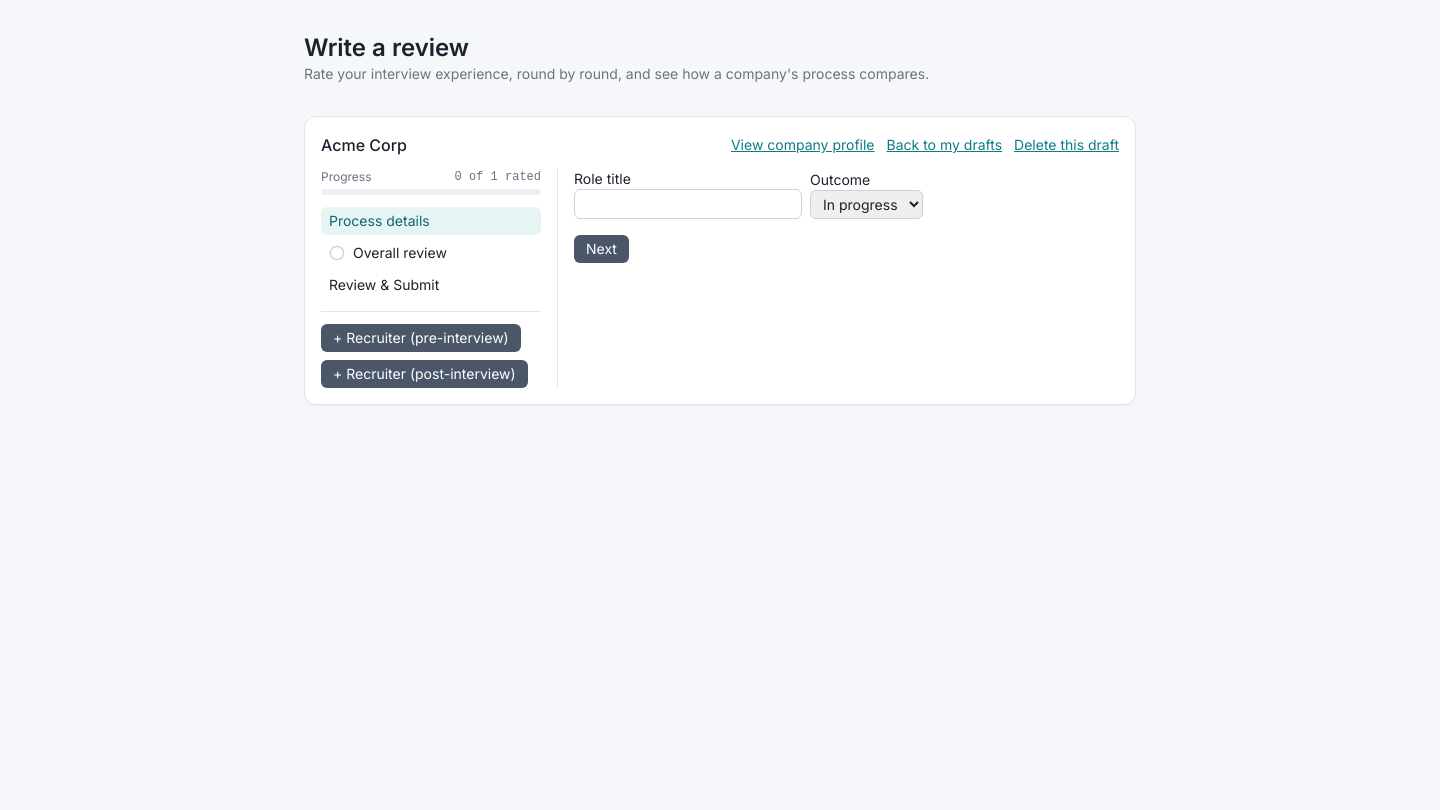
it: Next-button add-round modal (GitHub issues #306, #319) › "Finish draft & go to review" jumps straight to the review screen
Expected: the heading "Acme Corp" is shown, [321,133,407,157]
Type "Backend Engineer" into the field labelled "Role title".
click(688, 204); type("Backend Engineer")  # box [574,189,802,219]
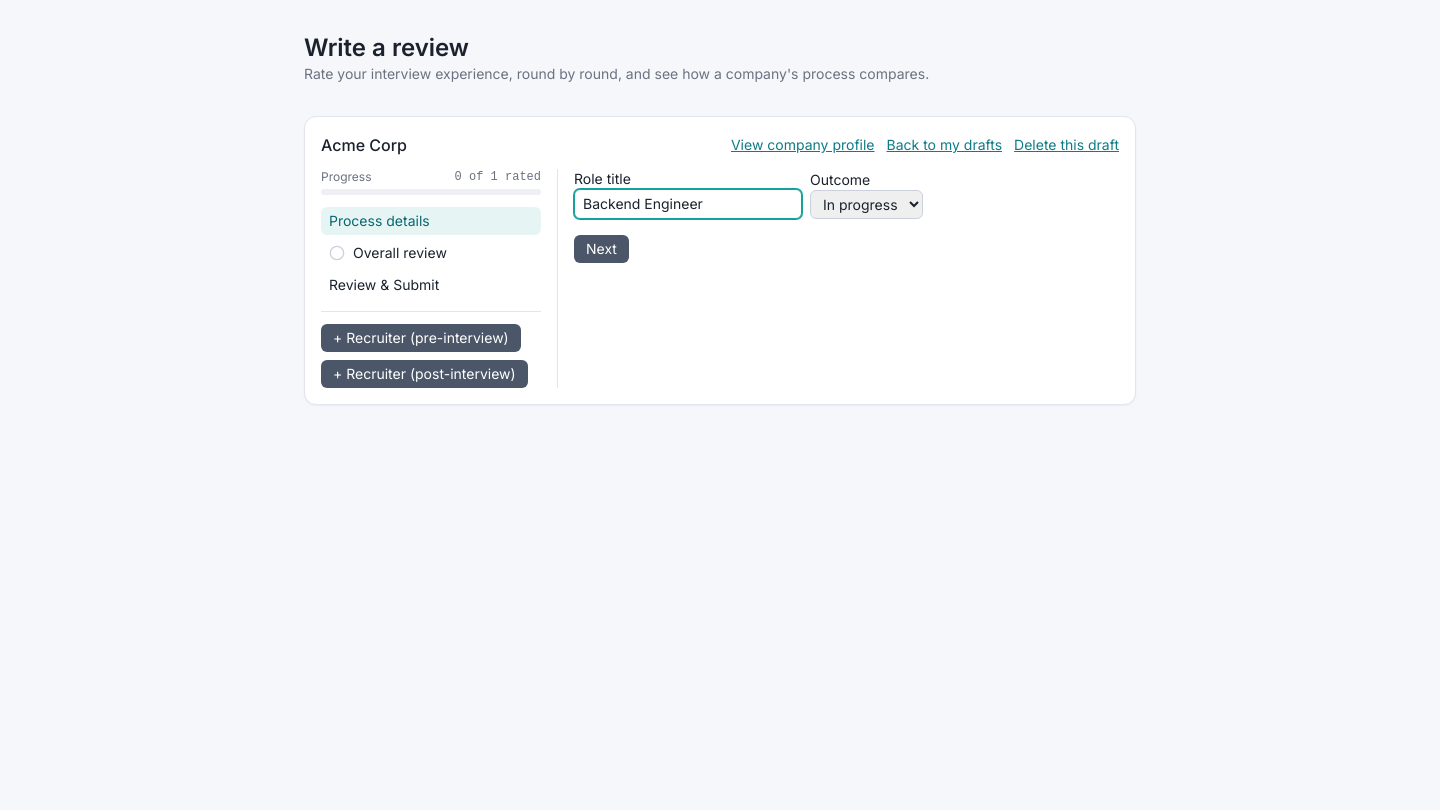
Click the button "Next".
click(601, 249)  # box [574,235,629,263]
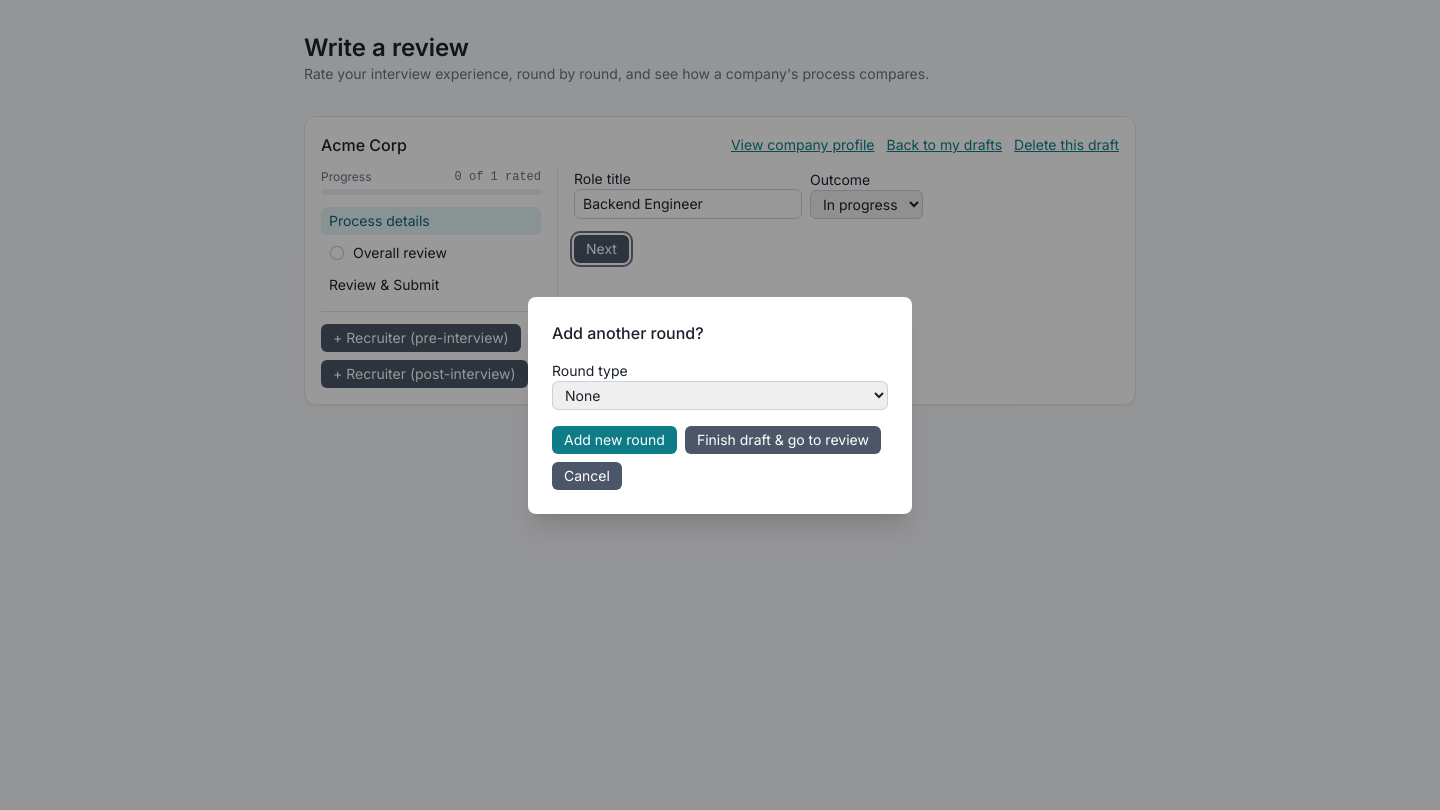
Expected: the dialog "Add another round" is shown
Click the button "Finish draft & go to review".
click(783, 440)  # box [685,426,881,454]
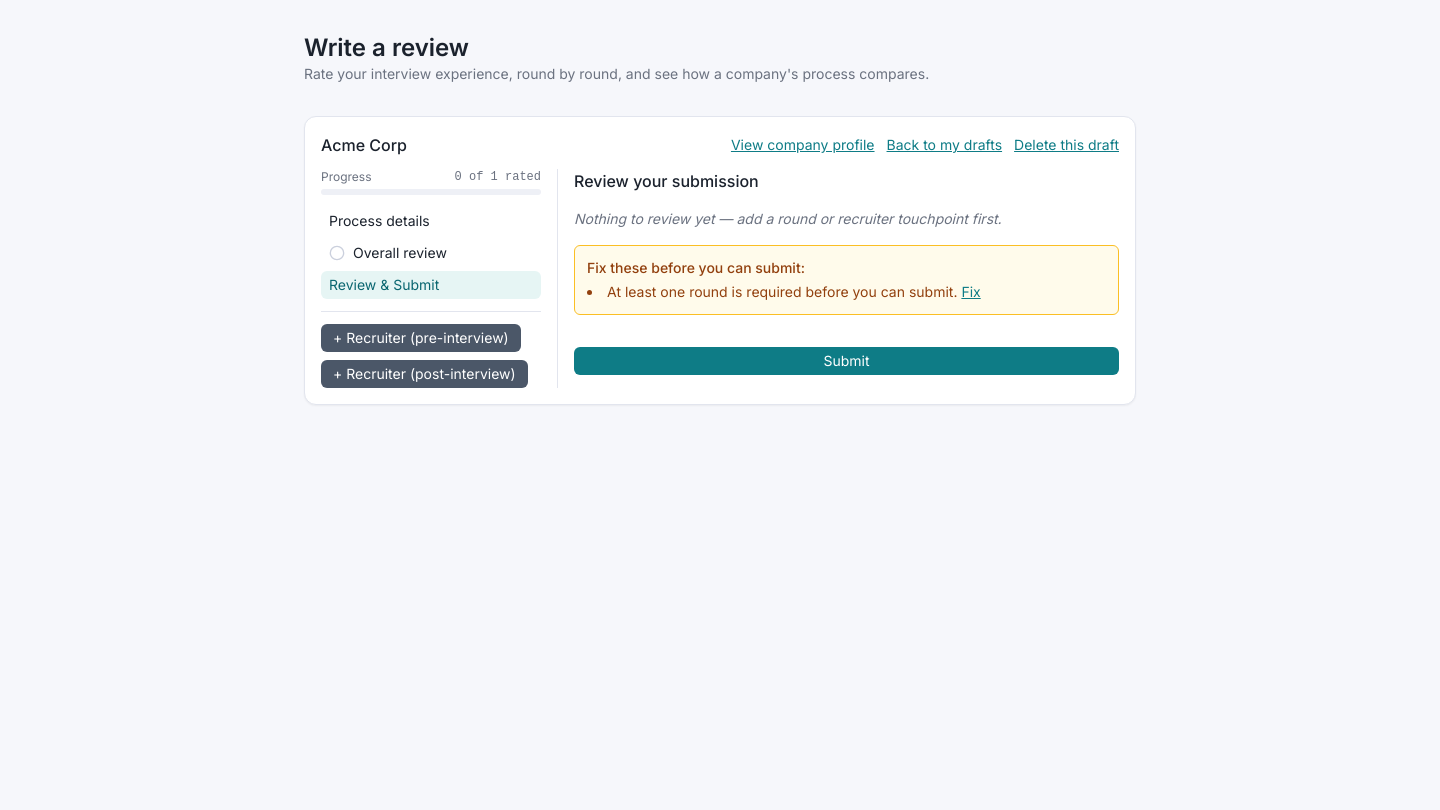
Expected: the dialog is gone
Expected: the heading "Review your submission" is shown, [574,171,759,191]
